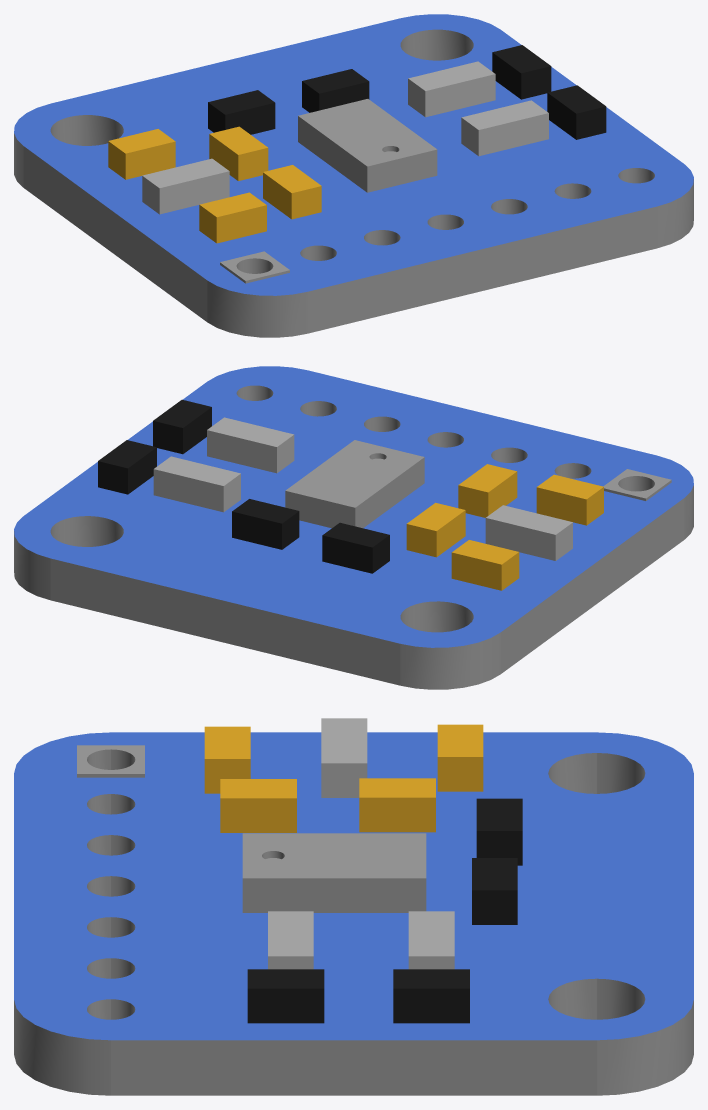
The model's file is ada-1893.glb.
3 views of the same model, one above another, from view 1: azimuth 30°, elevation 25°; view 2: azimuth 150°, elevation 25°; view 3: azimuth 270°, elevation 25° (orthographic). The views are drawn at different scales.
Parts seen in each view (by area): view 1: 0.08333333333333333_0.16666666666666666_0.75_0, 0.3333333333333333_0.3333333333333333_0.3333333333333333_0, 0.4166666666666667_0.4166666666666667_0.4166666666666667_0, 0.8333333333333334_0.4166666666666667_0_0, 0_0_0_0; view 2: 0.08333333333333333_0.16666666666666666_0.75_0, 0.3333333333333333_0.3333333333333333_0.3333333333333333_0, 0.4166666666666667_0.4166666666666667_0.4166666666666667_0, 0.8333333333333334_0.4166666666666667_0_0, 0_0_0_0; view 3: 0.08333333333333333_0.16666666666666666_0.75_0, 0.3333333333333333_0.3333333333333333_0.3333333333333333_0, 0_0_0_0, 0.8333333333333334_0.4166666666666667_0_0, 0.4166666666666667_0.4166666666666667_0.4166666666666667_0.
Part boxes in pixels (x1,y1,x2,y2): 0.08333333333333333_0.16666666666666666_0.75_0: (14,14,693,295); 0.3333333333333333_0.3333333333333333_0.3333333333333333_0: (14,29,693,337); 0.4166666666666667_0.4166666666666667_0.4166666666666667_0: (142,61,548,214); 0.8333333333333334_0.4166666666666667_0_0: (108,126,321,243); 0_0_0_0: (208,45,606,139); 0.08333333333333333_0.16666666666666666_0.75_0: (14,366,693,647); 0.3333333333333333_0.3333333333333333_0.3333333333333333_0: (14,385,693,689); 0.4166666666666667_0.4166666666666667_0.4166666666666667_0: (153,417,572,560); 0.8333333333333334_0.4166666666666667_0_0: (406,464,603,590); 0_0_0_0: (98,399,389,573); 0.08333333333333333_0.16666666666666666_0.75_0: (14,732,693,1040); 0.3333333333333333_0.3333333333333333_0.3333333333333333_0: (14,745,693,1095); 0_0_0_0: (247,798,522,1023); 0.8333333333333334_0.4166666666666667_0_0: (204,724,483,832); 0.4166666666666667_0.4166666666666667_0.4166666666666667_0: (268,718,454,969).
Size of the model in its own units: 1.9 by 0.26 by 1.78.
